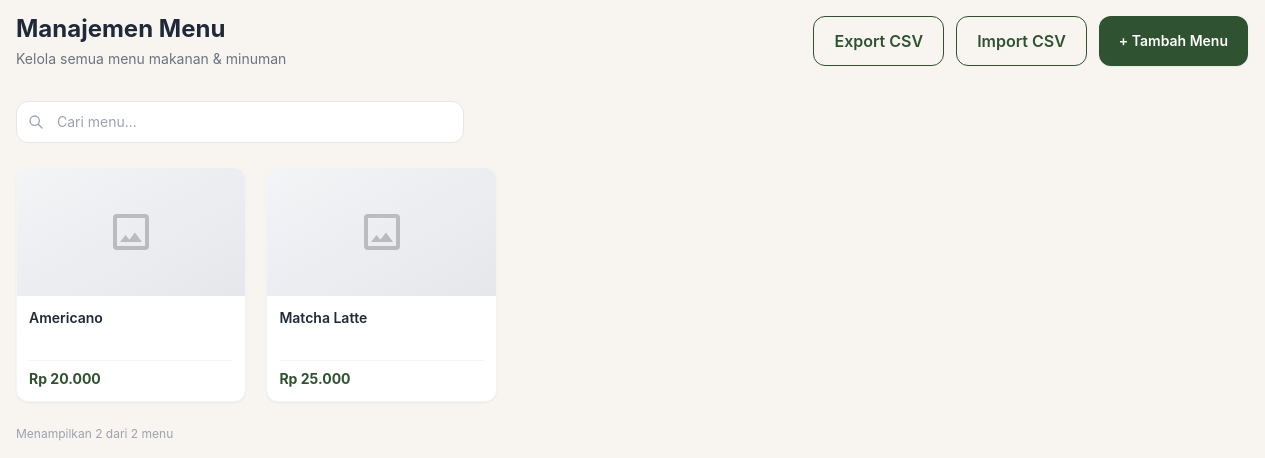
Scenario: ItemMenu Page › search filter bekerja
Expected: the heading "Americano" is shown, [29, 309, 103, 326]
Type "matcha" into the field with placeholder "Cari menu..." at (240, 122), box [16, 101, 464, 143]
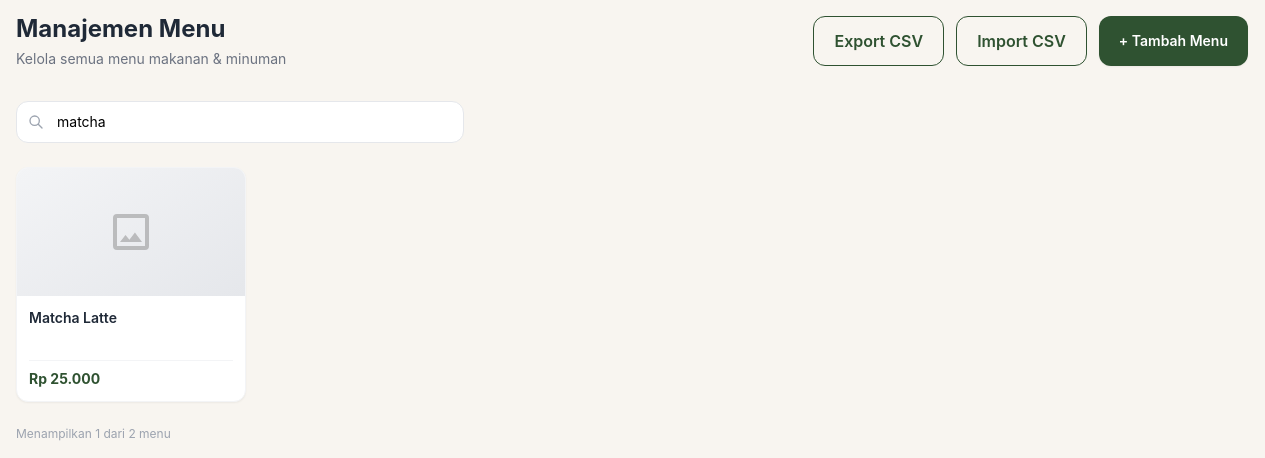
Expected: the heading "Matcha Latte" is shown, [29, 309, 117, 326]
Expected: the button "Americano" is gone
